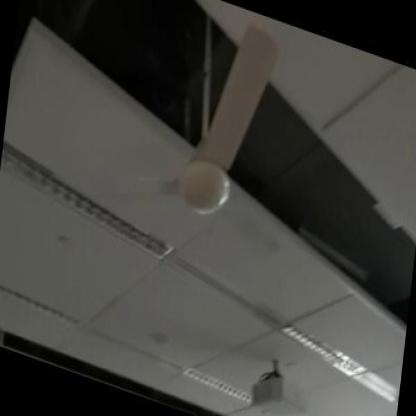light_off: (0, 114, 187, 282), (250, 279, 378, 394), (177, 347, 259, 415), (314, 414, 374, 414)
